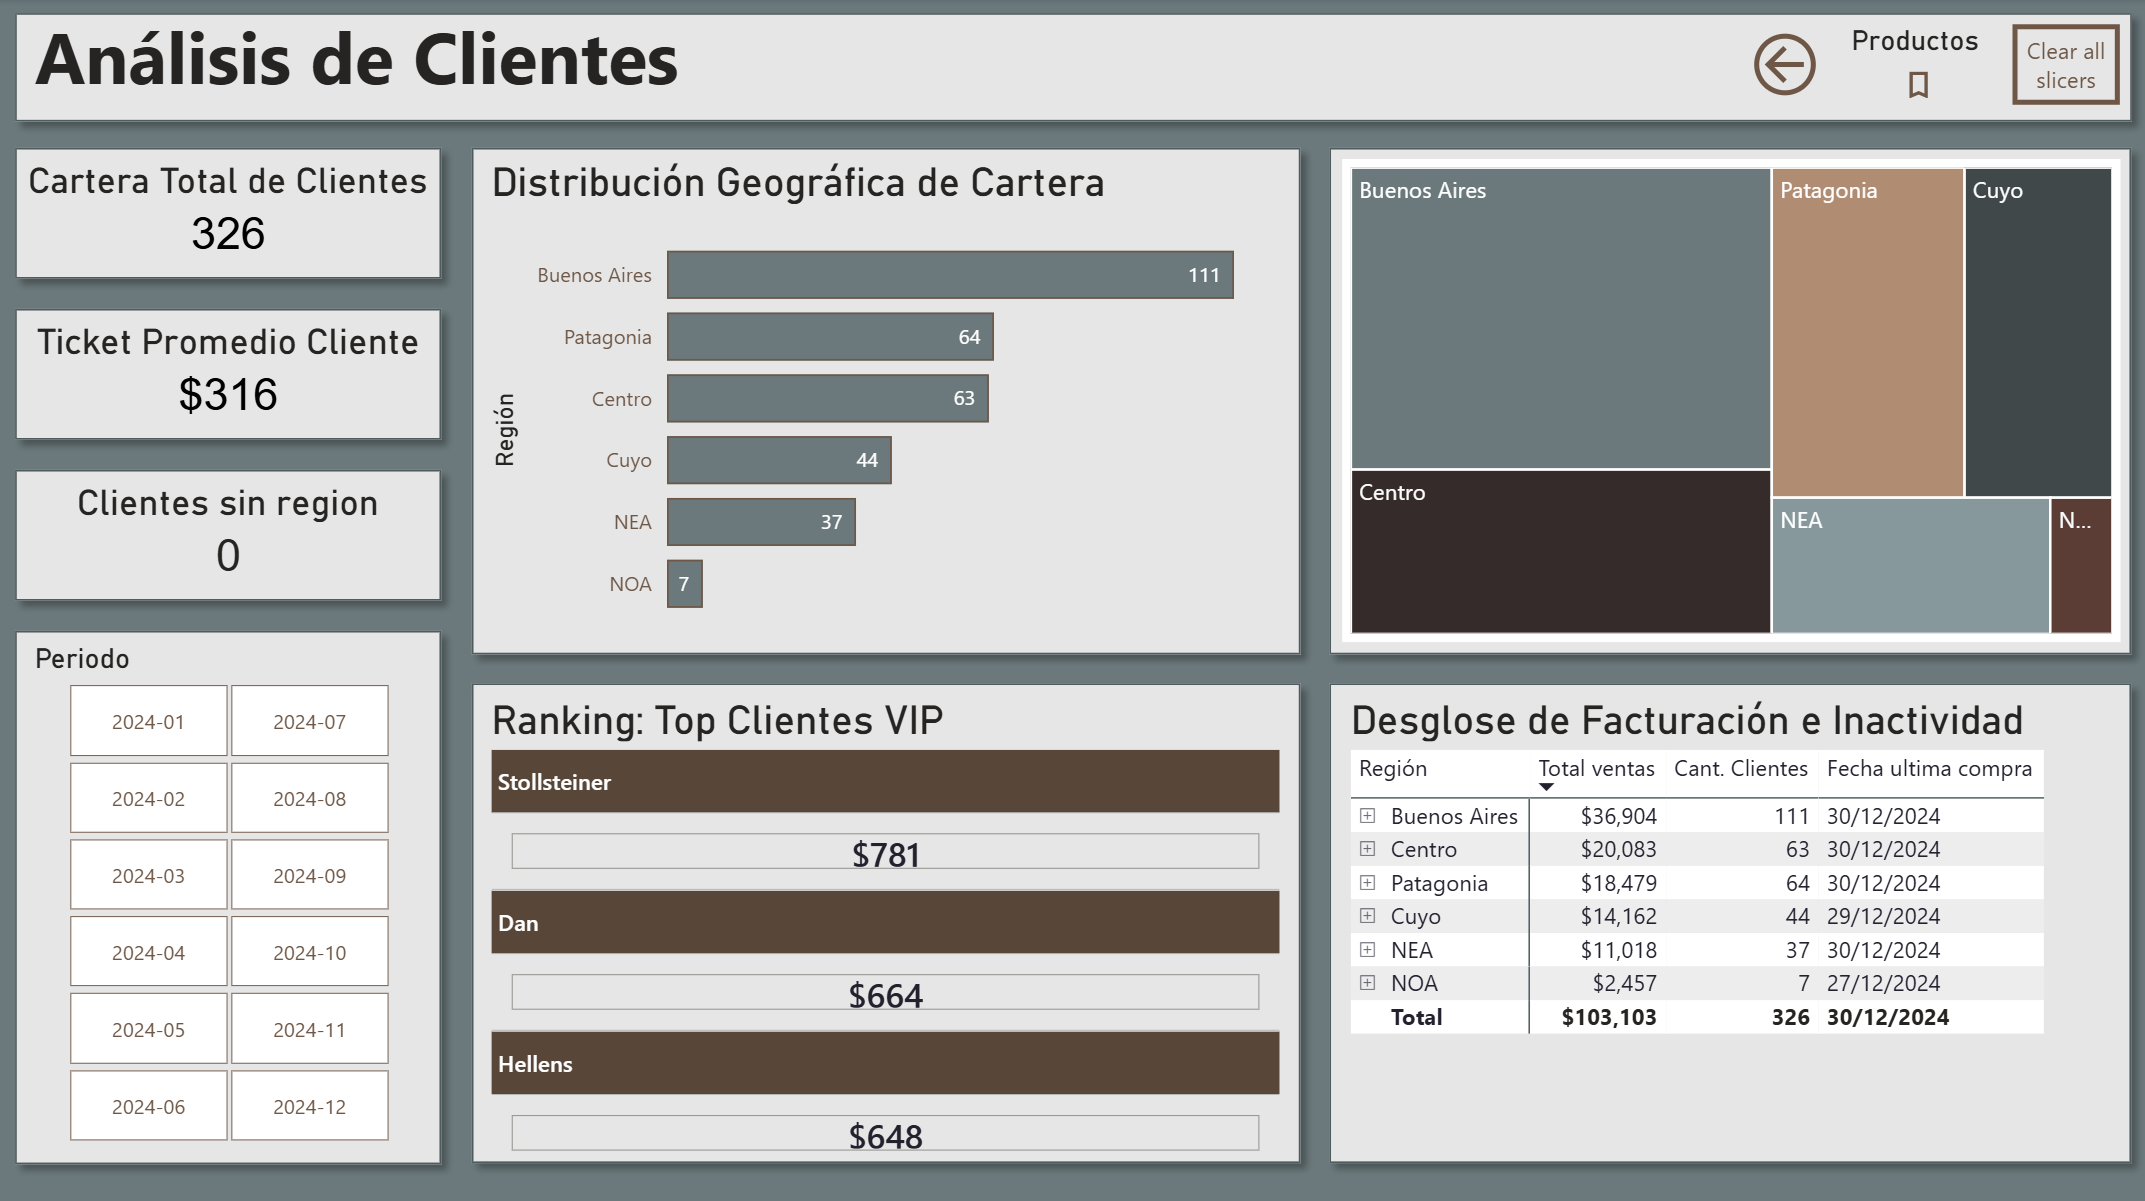

The page's visual inventory and layout, read from the dashboard file:
{"tool":"powerbi","page":{"name":"Análisis de Clientes","canvas":[1280,720],"ordinal":2},"visuals":[{"type":"group","id":"g1","title":"Group 1","box":[0,0,1280,704],"z":0},{"type":"shape","box":[784,400,496,304],"z":0,"group":"g1"},{"type":"shape","box":[0,80,272,96],"z":1000,"group":"g1"},{"type":"card","title":"Cartera Total de Clientes","fields":{"Values":["_Medidas.MB_Clientes unicos"]},"box":[0,96.2,272,64],"z":1000},{"type":"shape","box":[0,0,1280,82.6],"z":2000,"group":"g1"},{"type":"clusteredBarChart","title":"Distribución Geográfica de Cartera","fields":{"Y":["Clientes.ID_Cliente"],"Category":["Clientes.Región"]},"box":[288,96,480,288],"z":2000},{"type":"shape","box":[784,80,496,320],"z":3000,"group":"g1"},{"type":"pivotTable","title":"Desglose de Facturación e Inactividad","fields":{"Values":["_Medidas.MB_Total ventas","_Medidas.MB_Clientes unicos","Ventas.Fecha"],"Rows":["Clientes.Región","Clientes.Apellido","Clientes.Nombre"]},"box":[800,416,432,272],"z":3000},{"type":"shape","box":[0,368,272,336],"z":3500,"group":"g1"},{"type":"treemap","fields":{"Group":["Clientes.Región"],"Values":["_Medidas.MB_Total ventas"]},"box":[800,96,464,288],"z":4000},{"type":"shape","box":[272,400,512,304],"z":4000,"group":"g1"},{"type":"shape","box":[0,272,272,96],"z":4250,"group":"g1"},{"type":"shape","box":[0,176,272,96],"z":4500,"group":"g1"},{"type":"slicer","title":"Periodo","fields":{"Values":["Calendario.Año-mes"]},"box":[16,384,240,304],"z":4500},{"type":"shape","box":[272,80,512,320],"z":5000,"group":"g1"},{"type":"cardVisual","title":"Ranking: Top Clientes VIP","fields":{"Data":["_Medidas.MB_Total ventas"],"Rows":["Clientes.Apellido","Clientes.ID_Cliente","Clientes.Nombre"]},"box":[288,416,480,288],"z":5000},{"type":"actionButton","box":[1200,16,64,48],"z":6000},{"type":"actionButton","title":"Productos","box":[1104,16,80,48],"z":7000},{"type":"actionButton","box":[1040,16,48,48],"z":7001,"group":"g1"},{"type":"card","title":"Ticket Promedio Cliente","fields":{"Values":["_Medidas.MD_Ticket promedio cliente"]},"box":[0,192.2,272,64],"z":8000},{"type":"textbox","box":[16,0,800,80],"z":10000},{"type":"card","title":"Clientes sin region","fields":{"Values":["_Medidas.Errores region"]},"box":[0,288.2,272,64],"z":11000}]}

Visuals, with their boxes in screenshot pixels (x1, y1, x2, y2), scaled from the page's 1280x720 canvas onto the 2145x1201 screenshot:
"Group 1" group: 0, 0, 2144, 1174
shape: 1314, 667, 2144, 1174
shape: 0, 133, 456, 294
"Cartera Total de Clientes" card: 0, 160, 456, 267
shape: 0, 0, 2144, 138
"Distribución Geográfica de Cartera" clusteredBarChart: 483, 160, 1287, 641
shape: 1314, 133, 2144, 667
"Desglose de Facturación e Inactividad" pivotTable: 1341, 694, 2065, 1148
shape: 0, 614, 456, 1174
treemap - Clientes.Región x _Medidas.MB_Total ventas: 1341, 160, 2118, 641
shape: 456, 667, 1314, 1174
shape: 0, 454, 456, 614
shape: 0, 294, 456, 454
"Periodo" slicer: 27, 641, 429, 1148
shape: 456, 133, 1314, 667
"Ranking: Top Clientes VIP" cardVisual: 483, 694, 1287, 1174
actionButton: 2011, 27, 2118, 107
"Productos" actionButton: 1850, 27, 1984, 107
actionButton: 1743, 27, 1823, 107
"Ticket Promedio Cliente" card: 0, 321, 456, 427
textbox: 27, 0, 1367, 133
"Clientes sin region" card: 0, 481, 456, 587
